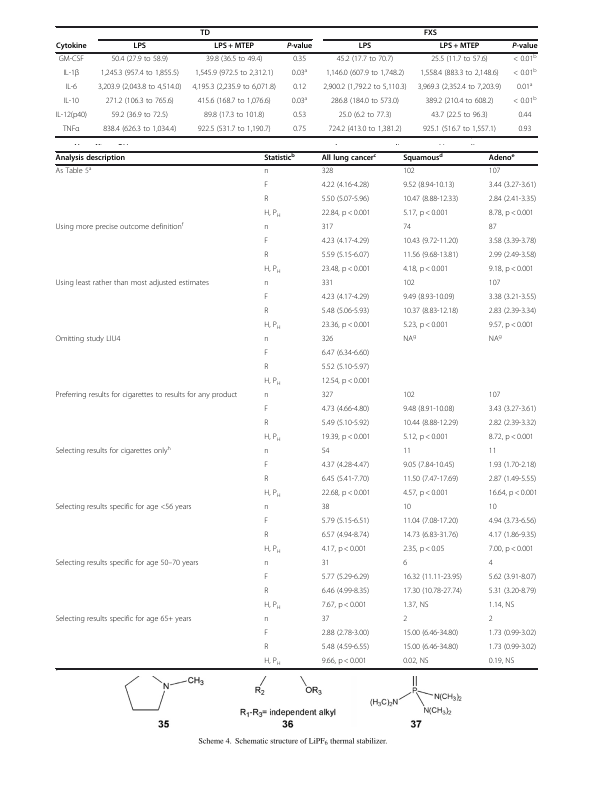borderless: (54, 150, 537, 668), (54, 25, 537, 136)
cell: (55, 391, 238, 401), (55, 279, 210, 289), (55, 221, 184, 233), (55, 559, 199, 569), (55, 445, 172, 457), (55, 503, 192, 513), (55, 615, 192, 625), (191, 83, 277, 93), (322, 83, 408, 93), (97, 83, 182, 93), (417, 83, 502, 93), (100, 69, 180, 79), (194, 69, 274, 79), (325, 69, 405, 79), (419, 69, 499, 79), (197, 97, 272, 107), (102, 125, 177, 135), (197, 125, 272, 135), (327, 125, 402, 135), (422, 125, 497, 135), (105, 97, 175, 107), (330, 97, 400, 107), (424, 97, 494, 107), (55, 335, 121, 345), (55, 154, 126, 163), (203, 111, 265, 121), (321, 152, 377, 163), (402, 573, 463, 583), (402, 587, 463, 597), (110, 55, 169, 65), (430, 55, 489, 65), (110, 111, 169, 121), (430, 111, 489, 121), (205, 55, 263, 65), (336, 55, 394, 65), (402, 195, 459, 205), (402, 237, 459, 247), (402, 251, 459, 261), (402, 307, 459, 317), (402, 419, 459, 429), (402, 475, 459, 485), (402, 517, 459, 527), (402, 531, 459, 541), (402, 629, 459, 639), (402, 643, 459, 653), (338, 111, 392, 121), (402, 181, 455, 191), (402, 293, 455, 303), (402, 405, 455, 415), (402, 461, 455, 471), (321, 209, 371, 219), (321, 265, 371, 275), (321, 321, 371, 331), (321, 377, 371, 387), (321, 433, 371, 443), (321, 489, 371, 499), (488, 489, 538, 499), (321, 181, 370, 191), (488, 181, 537, 191), (321, 195, 370, 205), (488, 195, 537, 205), (321, 237, 370, 247), (488, 237, 537, 247), (321, 251, 370, 261), (488, 251, 537, 261), (321, 293, 370, 303), (488, 293, 537, 303), (321, 307, 370, 317), (488, 307, 537, 317), (321, 349, 370, 359), (321, 363, 370, 373), (321, 405, 370, 415), (488, 405, 537, 415), (321, 419, 370, 429), (488, 419, 537, 429), (321, 461, 370, 471), (488, 461, 537, 471), (321, 475, 370, 485), (488, 475, 537, 485), (321, 517, 370, 527), (488, 517, 537, 527), (321, 531, 370, 541), (488, 531, 537, 541), (321, 573, 370, 583), (488, 573, 537, 583), (321, 587, 370, 597), (488, 587, 537, 597), (321, 629, 370, 639), (488, 629, 537, 639), (321, 643, 370, 653), (488, 643, 537, 653), (402, 209, 449, 219), (488, 209, 535, 219), (402, 265, 449, 275), (488, 265, 535, 275), (402, 321, 449, 331), (488, 321, 535, 331), (402, 433, 449, 443), (488, 433, 535, 443), (402, 489, 449, 499), (321, 545, 368, 555), (488, 545, 535, 555), (321, 601, 368, 611), (321, 657, 368, 667), (402, 152, 444, 163), (55, 165, 92, 177), (402, 545, 445, 555), (213, 42, 255, 52), (439, 42, 480, 52), (263, 152, 296, 163), (55, 111, 88, 121), (55, 42, 87, 52), (488, 152, 515, 163), (512, 54, 537, 65), (512, 68, 537, 79), (512, 96, 537, 107), (402, 601, 429, 611), (488, 601, 515, 611), (402, 657, 429, 667), (488, 657, 515, 667), (286, 42, 313, 52), (511, 42, 538, 52), (58, 55, 85, 65), (263, 209, 282, 219), (263, 265, 282, 275), (263, 321, 282, 331), (263, 377, 282, 387), (263, 433, 282, 443), (263, 489, 282, 499), (263, 545, 282, 555), (263, 601, 282, 611), (263, 657, 282, 667), (291, 68, 308, 79), (516, 82, 533, 93), (291, 96, 308, 107), (402, 333, 417, 345), (488, 333, 503, 345), (62, 69, 80, 79), (62, 125, 80, 135), (63, 97, 80, 107), (132, 42, 147, 52), (292, 55, 307, 65), (292, 83, 307, 93), (292, 111, 307, 121), (517, 111, 532, 121), (292, 125, 307, 135), (517, 125, 532, 135), (402, 167, 416, 177), (402, 279, 416, 289), (402, 391, 416, 401), (358, 42, 372, 52), (64, 83, 78, 93), (423, 29, 438, 38), (321, 167, 334, 177), (488, 167, 501, 177), (321, 223, 334, 233), (321, 279, 334, 289), (488, 279, 501, 289), (321, 335, 334, 345), (321, 391, 334, 401), (488, 391, 501, 401), (199, 29, 211, 38), (402, 223, 412, 233), (402, 447, 412, 457), (402, 503, 412, 513), (488, 223, 497, 233), (321, 447, 330, 457), (488, 447, 497, 457), (321, 503, 330, 513), (488, 503, 497, 513), (321, 559, 330, 569), (321, 615, 330, 625), (263, 167, 269, 177), (263, 181, 269, 191), (263, 195, 269, 205), (263, 223, 269, 233), (263, 237, 269, 247), (263, 251, 269, 261), (263, 279, 269, 289), (263, 293, 269, 303), (263, 307, 269, 317), (263, 335, 269, 345), (263, 349, 269, 359), (263, 363, 269, 373), (263, 391, 269, 401), (263, 405, 269, 415), (263, 419, 269, 429), (263, 447, 269, 457), (263, 461, 269, 471), (263, 475, 269, 485), (263, 503, 269, 513), (263, 517, 269, 527), (263, 531, 269, 541), (263, 559, 269, 569), (402, 559, 408, 569), (488, 559, 494, 569), (263, 573, 269, 583), (263, 587, 269, 597), (263, 615, 269, 625), (402, 615, 408, 625), (488, 615, 494, 625), (263, 629, 269, 639), (263, 643, 269, 653)
